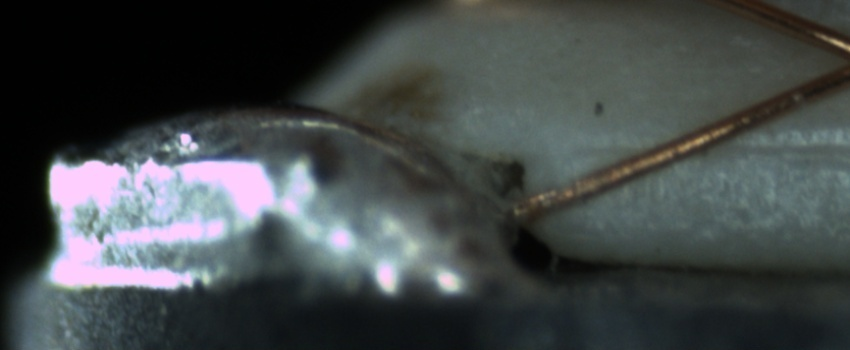DL: (572, 116, 844, 179)
